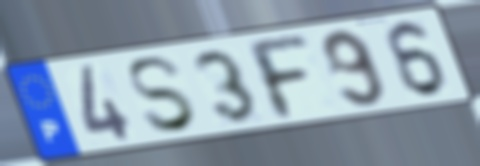3: (191, 46, 260, 124)
4: (76, 62, 134, 144)
6: (382, 17, 452, 100)
9: (320, 27, 388, 109)
F: (240, 33, 314, 123)
S: (124, 54, 202, 136)
